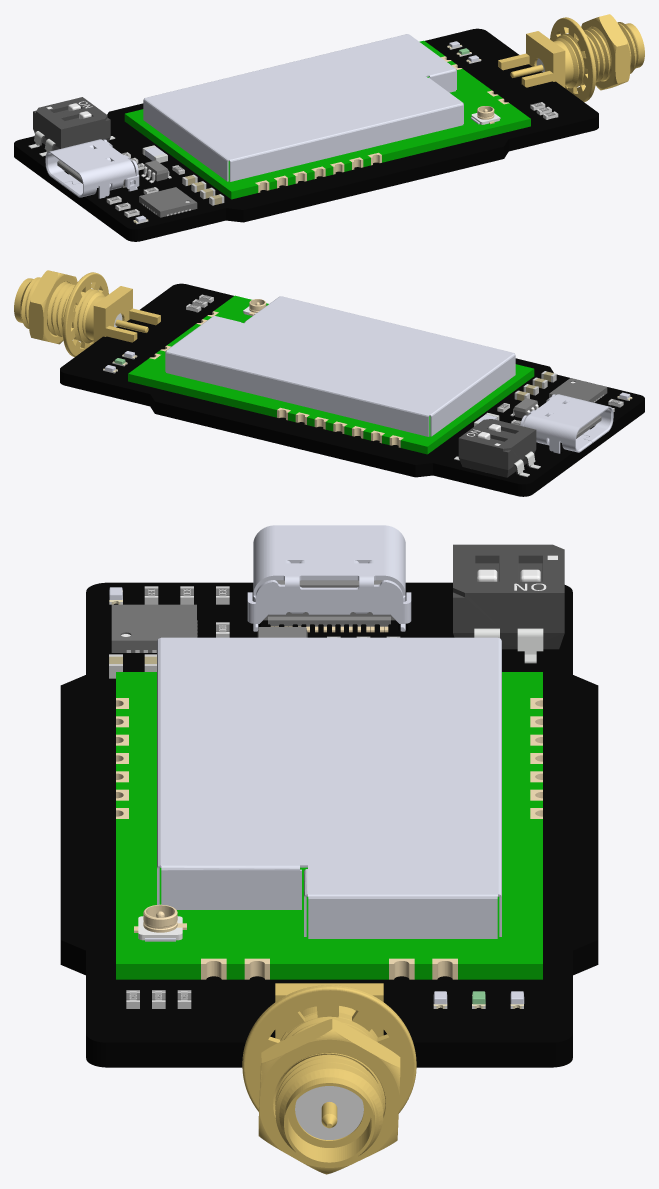
File: SkyGround.glb
3 renders of one model, top to bottom at view 1: azimuth 30°, elevation 25°; view 2: azimuth 150°, elevation 25°; view 3: azimuth 270°, elevation 25°, orthographic. The views are drawn at different scales.
Parts seen in each view (by area): view 1: Node2, Node3, Node15, Node1, Node12, Node4, Node7, Node17, Node14, Node18, Node13, Node16; view 2: Node2, Node3, Node1, Node15, Node12, Node4, Node7, Node17, Node14, Node18, Node13; view 3: Node2, Node3, Node15, Node1, Node12, Node4, Node7, Node17, Node19, Node14, Node18, Node13.
Part boxes in pixels (left/top/right/bottom): Node2: left=45, top=34, right=500, bottom=222; Node3: left=14, top=28, right=598, bottom=241; Node15: left=124, top=40, right=530, bottom=199; Node1: left=498, top=14, right=644, bottom=102; Node12: left=33, top=97, right=110, bottom=150; Node4: left=255, top=56, right=509, bottom=192; Node7: left=139, top=187, right=197, bottom=217; Node17: left=57, top=102, right=555, bottom=213; Node14: left=46, top=45, right=553, bottom=224; Node18: left=106, top=102, right=558, bottom=217; Node13: left=28, top=131, right=167, bottom=162; Node16: left=108, top=102, right=557, bottom=217; Node2: left=105, top=296, right=630, bottom=453; Node3: left=60, top=283, right=644, bottom=496; Node1: left=14, top=270, right=160, bottom=357; Node15: left=128, top=295, right=534, bottom=454; Node12: left=458, top=419, right=536, bottom=477; Node4: left=149, top=299, right=403, bottom=447; Node7: left=549, top=378, right=607, bottom=402; Node17: left=188, top=295, right=621, bottom=442; Node14: left=103, top=296, right=632, bottom=445; Node18: left=186, top=294, right=623, bottom=423; Node13: left=454, top=412, right=540, bottom=476; Node2: left=109, top=525, right=524, bottom=1004; Node3: left=60, top=582, right=598, bottom=1067; Node15: left=116, top=672, right=542, bottom=979; Node1: left=242, top=983, right=416, bottom=1174; Node12: left=453, top=544, right=564, bottom=649; Node4: left=116, top=626, right=542, bottom=979; Node7: left=111, top=604, right=196, bottom=652; Node17: left=126, top=580, right=395, bottom=1000; Node19: left=295, top=1086, right=363, bottom=1139; Node14: left=109, top=555, right=557, bottom=1008; Node18: left=109, top=586, right=400, bottom=1008; Node13: left=474, top=628, right=543, bottom=663.
Bounding box in the file's own units: 77.2 × 10.2 × 31.5.
